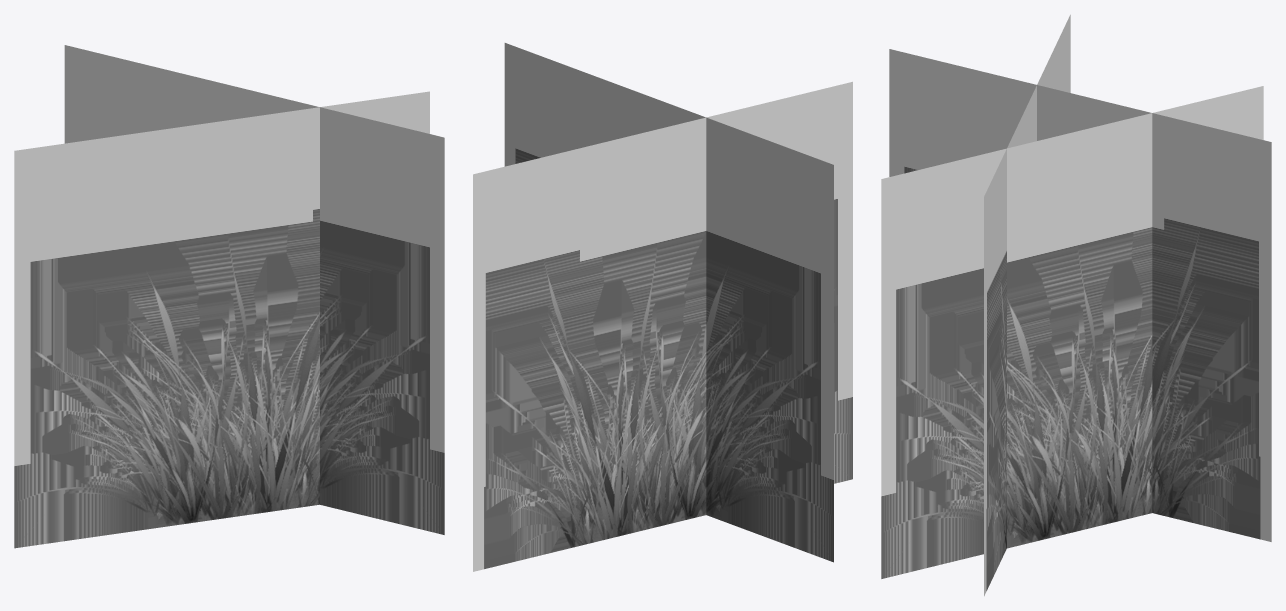
Rendered from grass.glb.
3 views of the same model, side by side, from view 1: azimuth 30°, elevation 25°; view 2: azimuth 150°, elevation 25°; view 3: azimuth 270°, elevation 25° (orthographic).
Visible parts, largest first — view 1: Grass; view 2: Grass; view 3: Grass.
Boxes of the visible parts, x1=… form: Grass: x1=14, y1=45, x2=444, y2=548; Grass: x1=473, y1=43, x2=852, y2=571; Grass: x1=881, y1=14, x2=1271, y2=596.
Bounding box in the file's own units: 1.96 × 2 × 1.77.
1 material, 1 textured.
